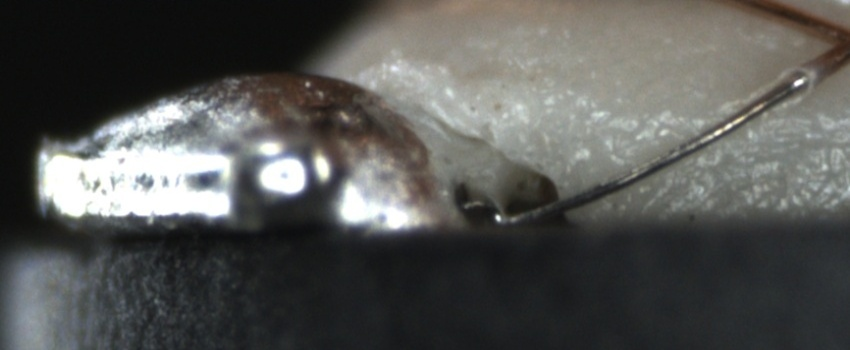CL: (805, 12, 850, 76)
DL: (737, 111, 849, 169)
TTCW: (491, 64, 849, 229)
